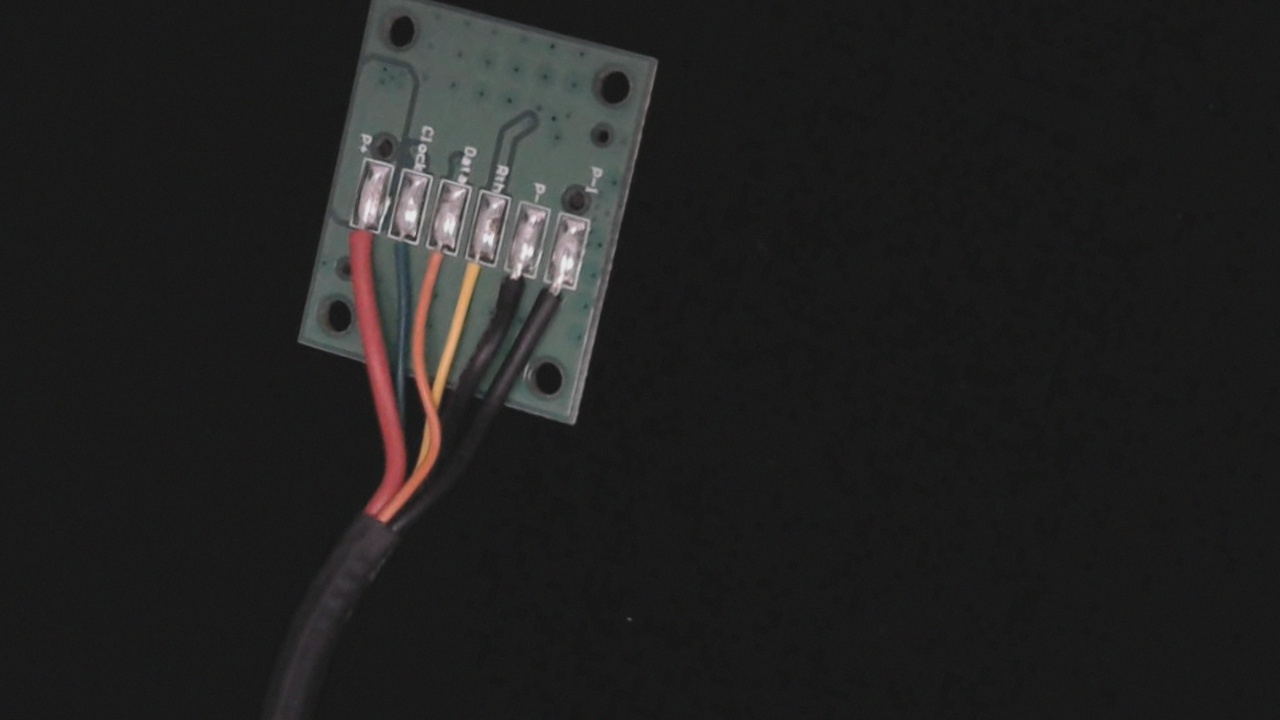Black: (486, 251, 537, 329)
Black1: (524, 265, 579, 342)
Green: (372, 220, 428, 282)
Orange: (409, 230, 461, 298)
Red: (332, 207, 388, 267)
Yellow: (448, 240, 501, 311)
